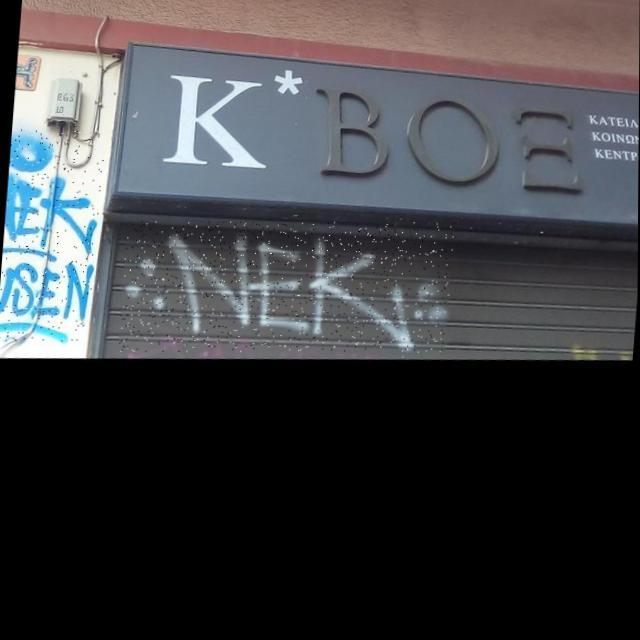-: (118, 205, 454, 376), (0, 124, 105, 347)
